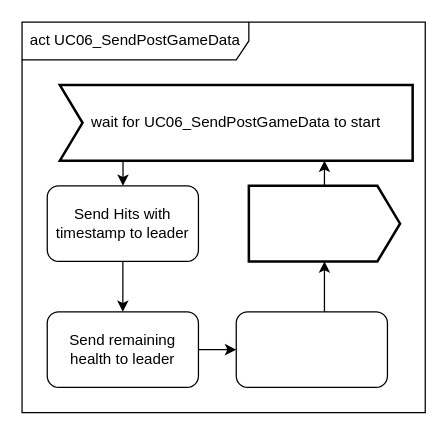
This 447x435 diagram has some shape labels left out. Each missing label, with the centre of its shape:
go to UC2_GameSetup: the point at 324,223
Send Shots taken to leader: the point at 311,349
